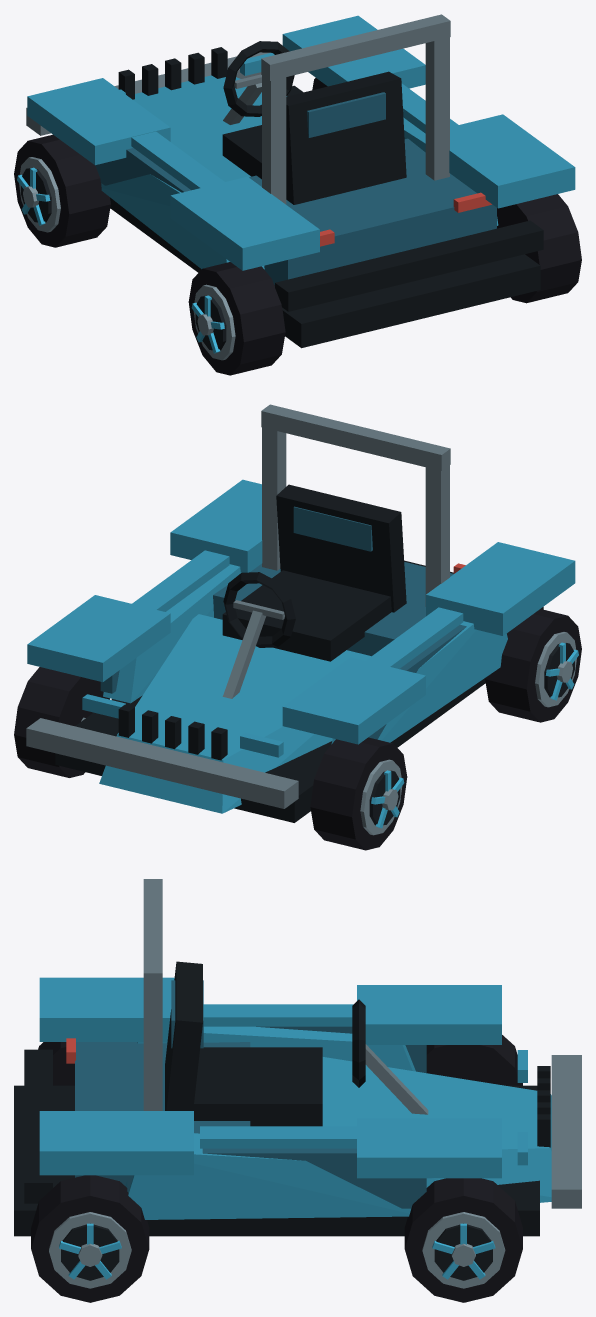
File: kart.glb
3 views of the same model, one above another, from view 1: azimuth 30°, elevation 25°; view 2: azimuth 150°, elevation 25°; view 3: azimuth 270°, elevation 25° (orthographic). The views are drawn at different scales.
Visible parts, largest first — view 1: chassis, wheel-rear-left, wheel-front-left, wheel-rear-right; view 2: chassis, wheel-front-left, wheel-rear-left, wheel-front-right; view 3: chassis, wheel-rear-right, wheel-front-right, wheel-front-left, wheel-rear-left.
Part boxes in pixels (x1,y1,x2,y2): chassis: (26,14,575,348); wheel-rear-left: (188,262,285,375); wheel-front-left: (14,134,110,247); wheel-rear-right: (497,194,581,303); chassis: (26,404,575,822); wheel-front-left: (310,737,407,850); wheel-rear-left: (485,609,581,722); wheel-front-right: (14,667,109,777); chassis: (14,879,581,1236); wheel-rear-right: (31,1175,149,1302); wheel-front-right: (404,1178,522,1302); wheel-front-left: (426,1035,522,1085); wheel-rear-left: (38,1042,74,1085).
Bounding box in the file's own units: 2.36 × 1.67 × 2.98.
